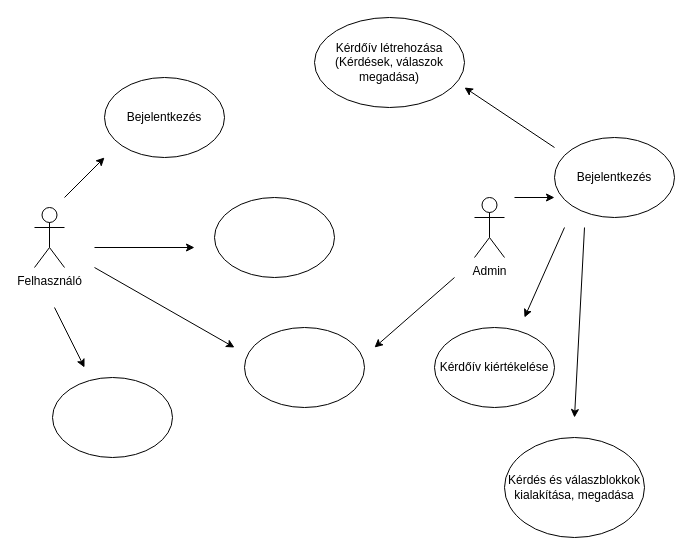
Image size: 692x555. Some labels were removed from this diagram. The shapes that lost their labels are listed below. From the top down, each one's centre as x and y in pixels, then its label:
At point 274,237: "Kérdőív kitöltése".
At point 304,367: "Kérdőív olvasása".
At point 112,417: "Kitöltött kérdőív elküldése".
